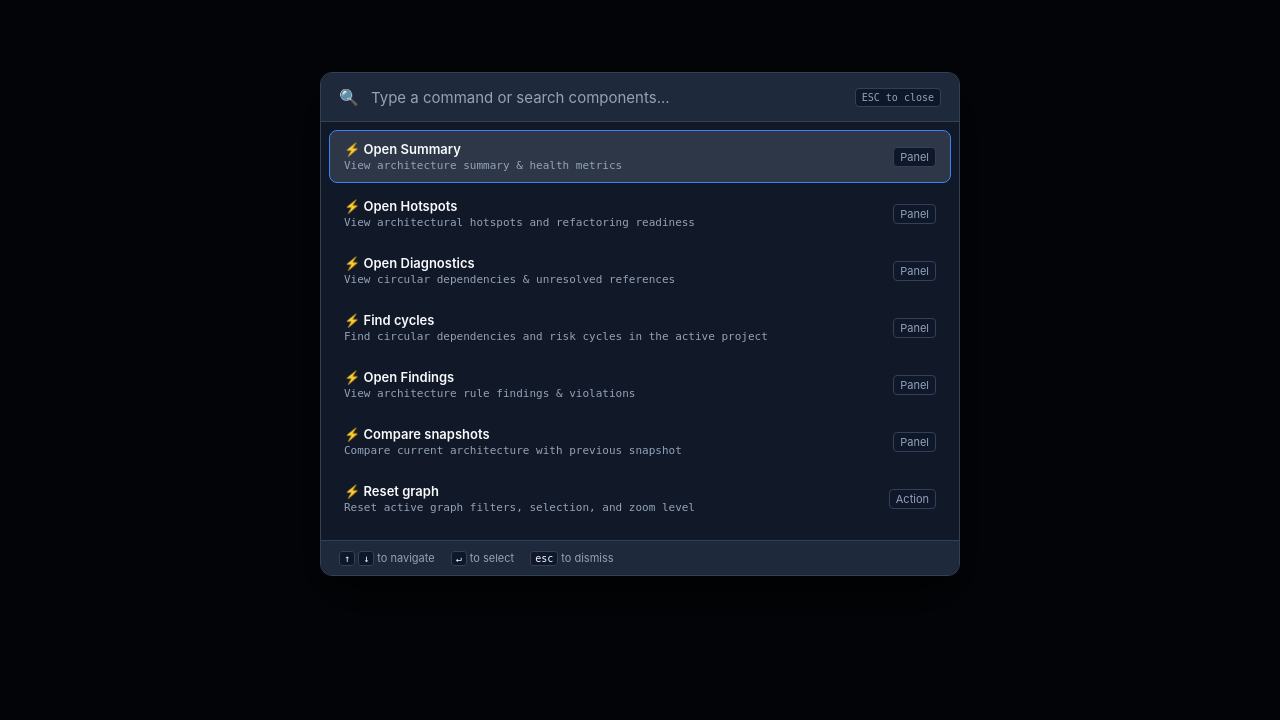
Test: CommandPalette › "← Back" returns from panel view to command search list mode
Click the option with test id "command-palette-item-cmd-summary" at (412, 149), box [329, 130, 951, 183]
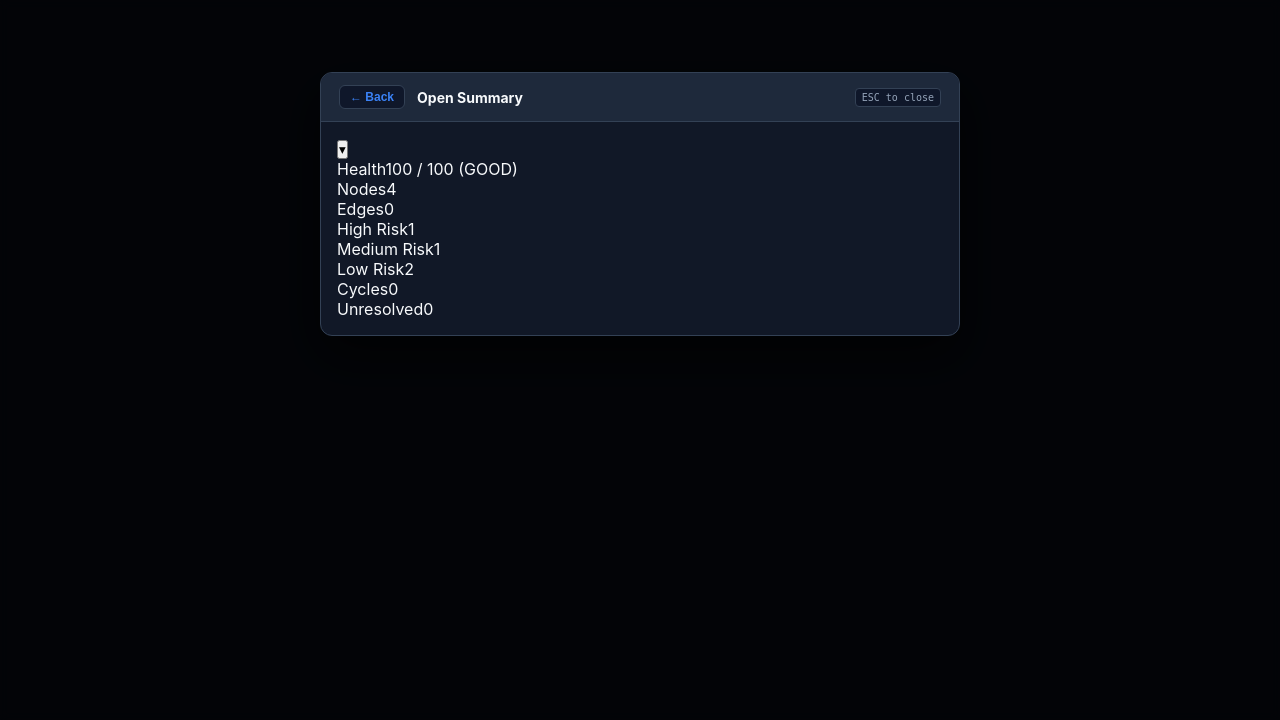
Result: the element with test id "command-palette-panel-view" is shown at [321, 73, 959, 335]
Click the button with test id "command-palette-back-btn" at (372, 97), box [339, 85, 405, 109]
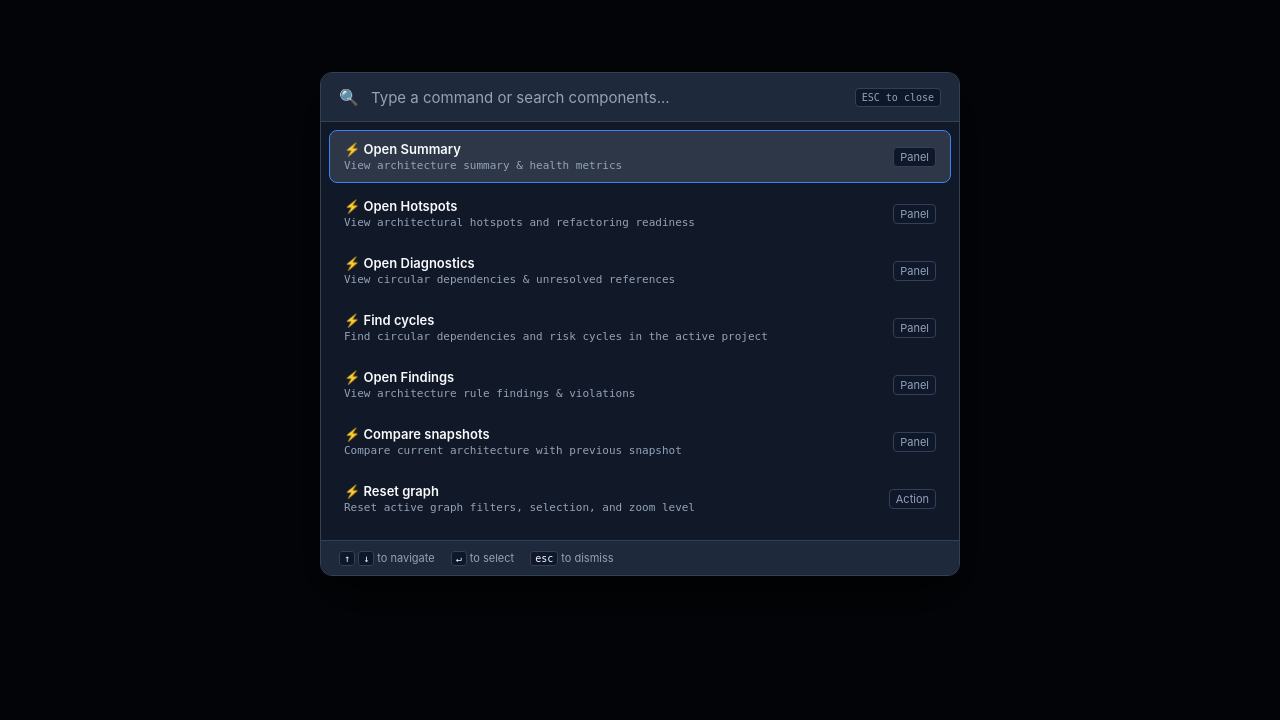
Result: the field with test id "command-palette-input" is shown at [371, 88, 843, 106]
